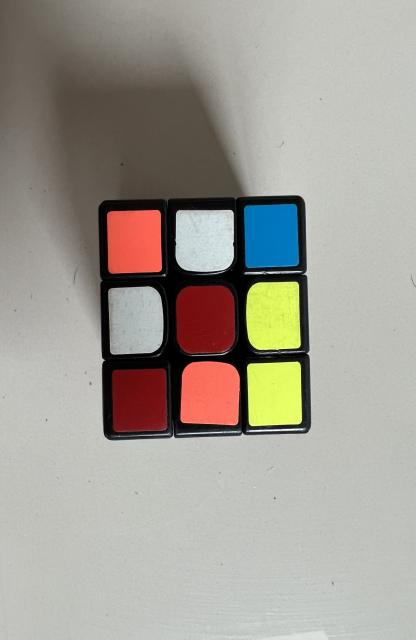Blue: (244, 204, 299, 268)
Orange: (180, 361, 239, 425), (107, 210, 162, 274)
Red: (176, 285, 235, 354), (112, 369, 168, 432)
White: (108, 286, 164, 355), (176, 210, 234, 272)
Yellow: (246, 281, 301, 350), (247, 361, 302, 426)
